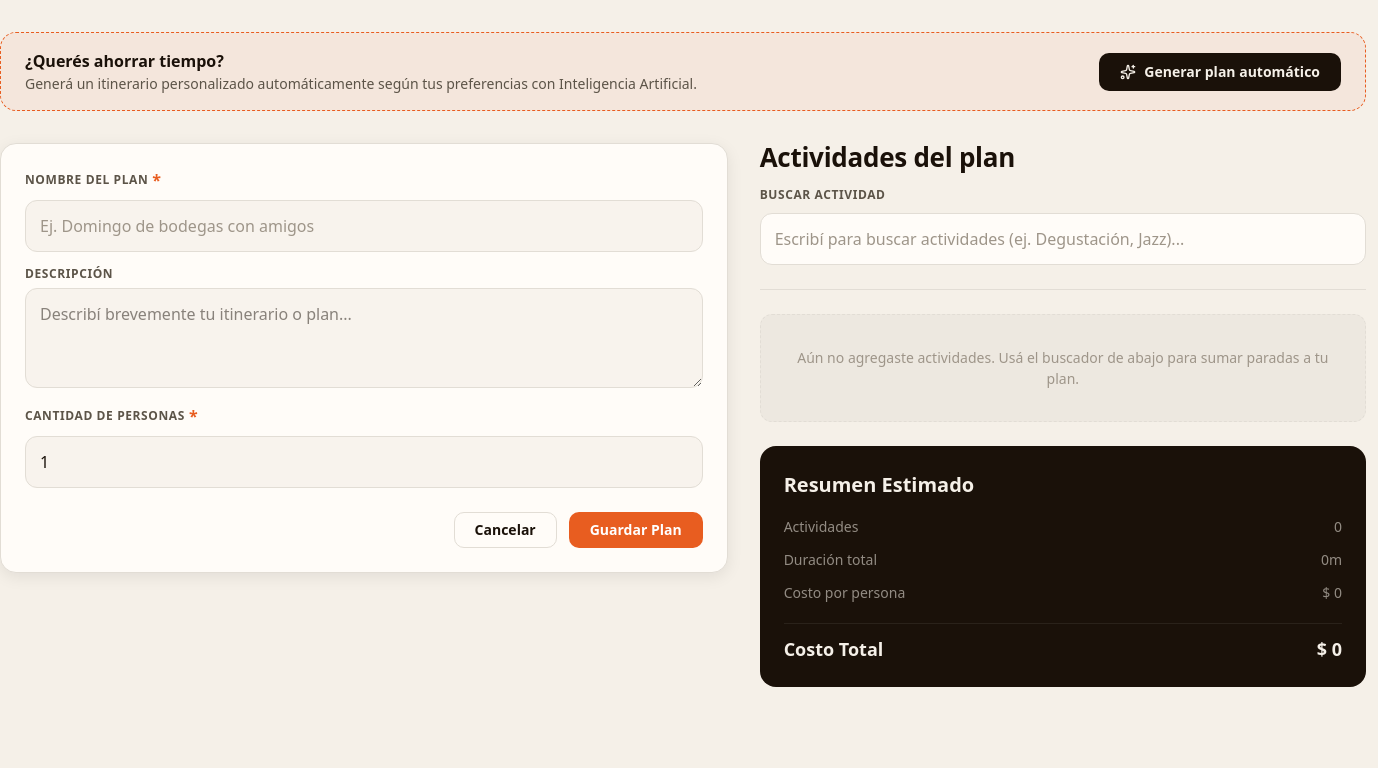
Test case: CreatePlanForm (CU24) › refuses to submit without a title
The image size is (1378, 768).
Click the button "Guardar Plan".
click(636, 530)  # box [569,512,703,548]
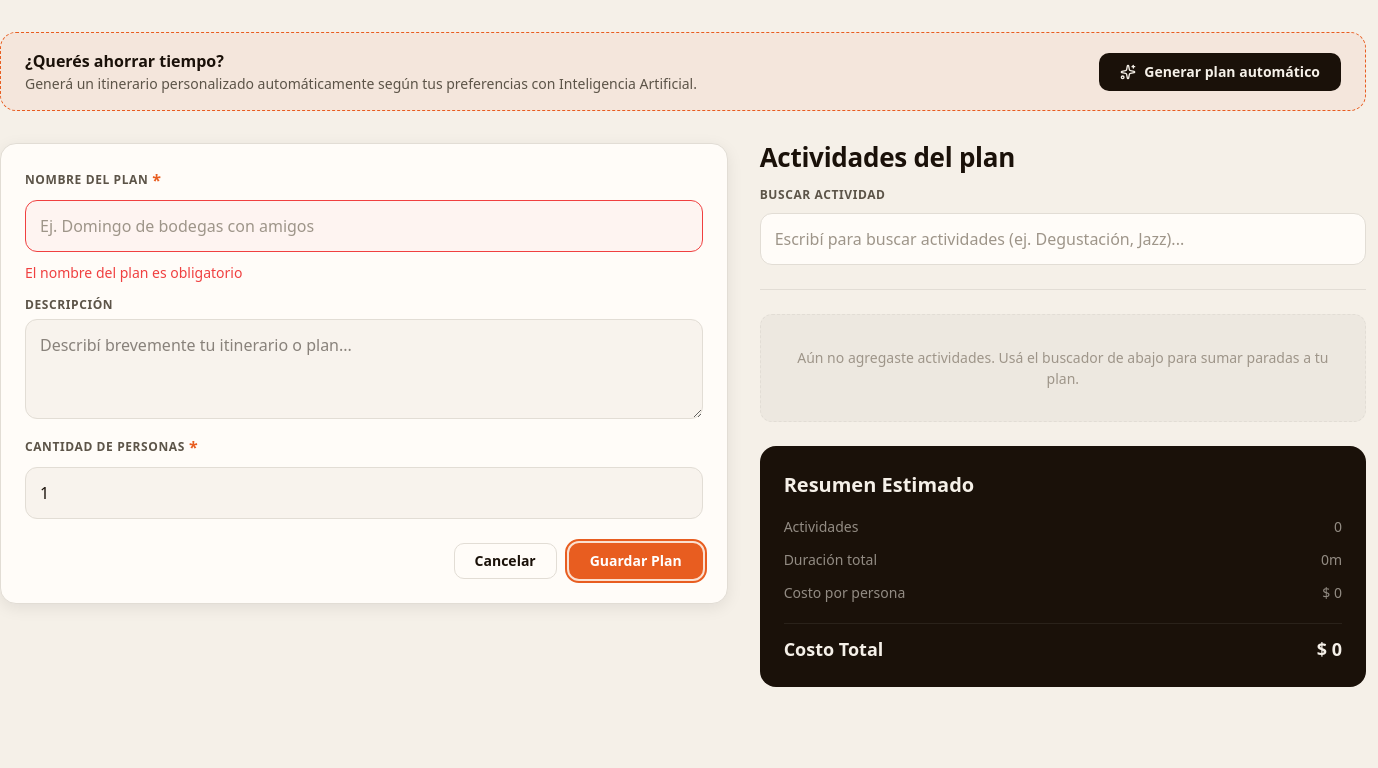
Expected: the text "El nombre del plan es obligatorio" is shown, [25,263,242,282]
